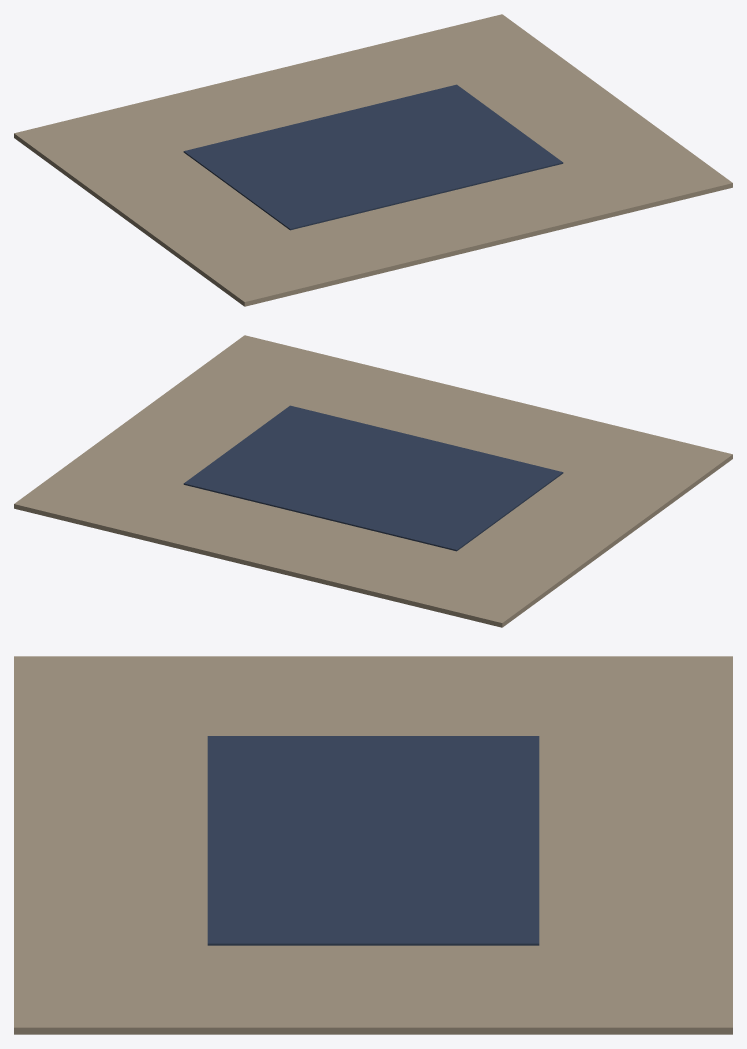
The model's file is stage_00_site.glb.
3 views of the same model, one above another, from view 1: azimuth 30°, elevation 25°; view 2: azimuth 150°, elevation 25°; view 3: azimuth 270°, elevation 25° (orthographic). The views are drawn at different scales.
Parts seen in each view (by area): view 1: world; view 2: world; view 3: world.
Boxes of the visible parts, bbox=[...] form: world: bbox=[14, 14, 732, 306]; world: bbox=[14, 335, 732, 627]; world: bbox=[14, 656, 732, 1034].
Size of the model in its own units: 11 by 0.13 by 9.
